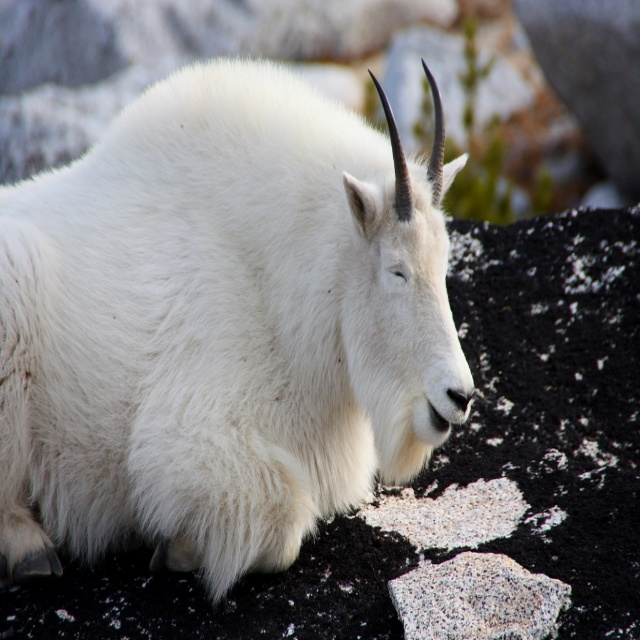Goat: (0, 42, 471, 600)
